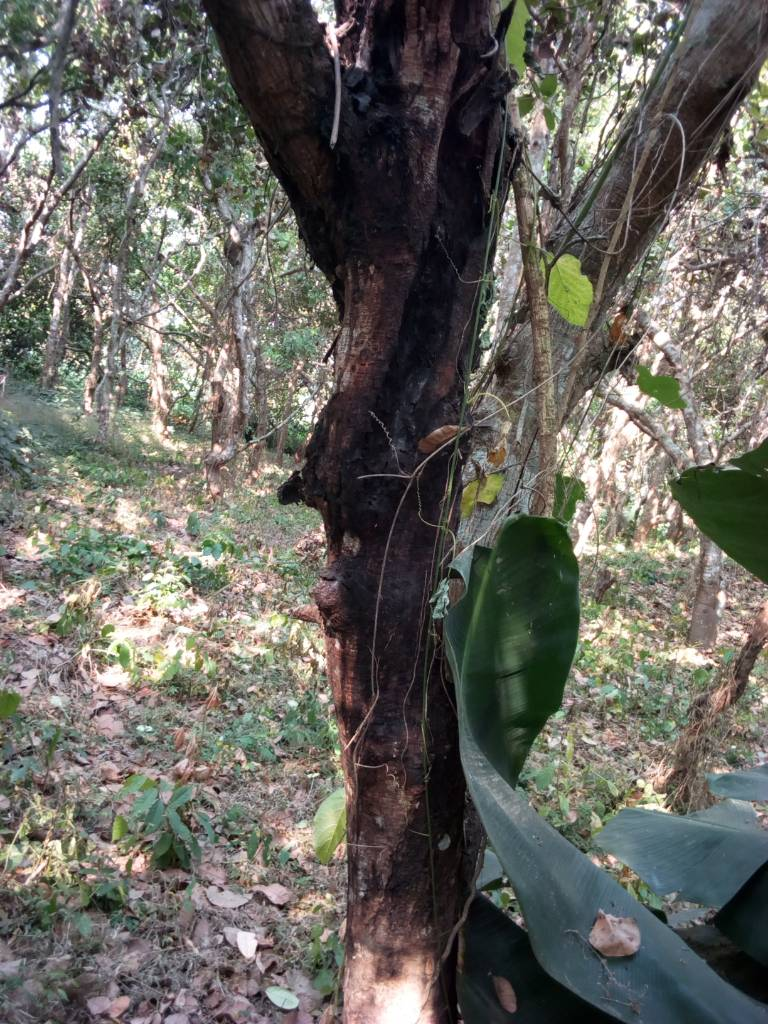Gommose: (265, 77, 465, 917)
